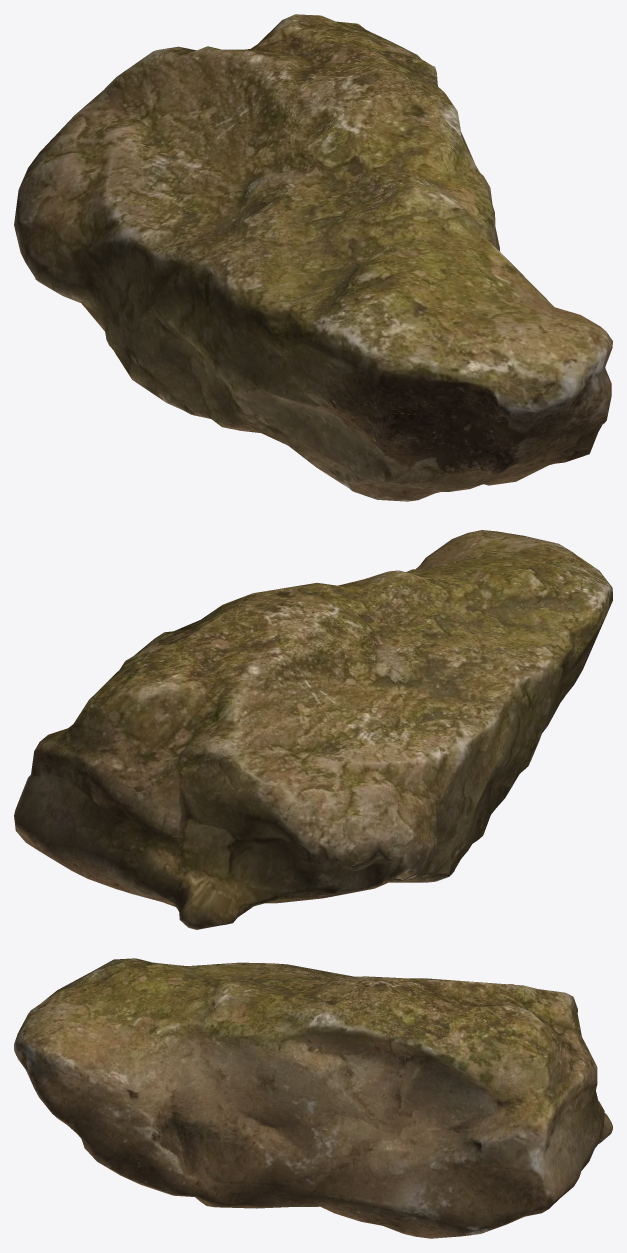
The model's file is mossrock.glb.
The picture shows the model from 3 angles, top to bottom: view 1: azimuth 30°, elevation 25°; view 2: azimuth 150°, elevation 25°; view 3: azimuth 270°, elevation 25°; orthographic projection. The views are drawn at different scales.
Parts seen in each view (by area): view 1: moss_rock_06-material; view 2: moss_rock_06-material; view 3: moss_rock_06-material.
Part boxes in pixels (<box>): moss_rock_06-material: <box>14,14,612,501</box>; moss_rock_06-material: <box>14,530,612,929</box>; moss_rock_06-material: <box>14,958,612,1238</box>.
Size of the model in its own units: 1.81 by 1.2 by 2.98.
1 material, 1 textured.
